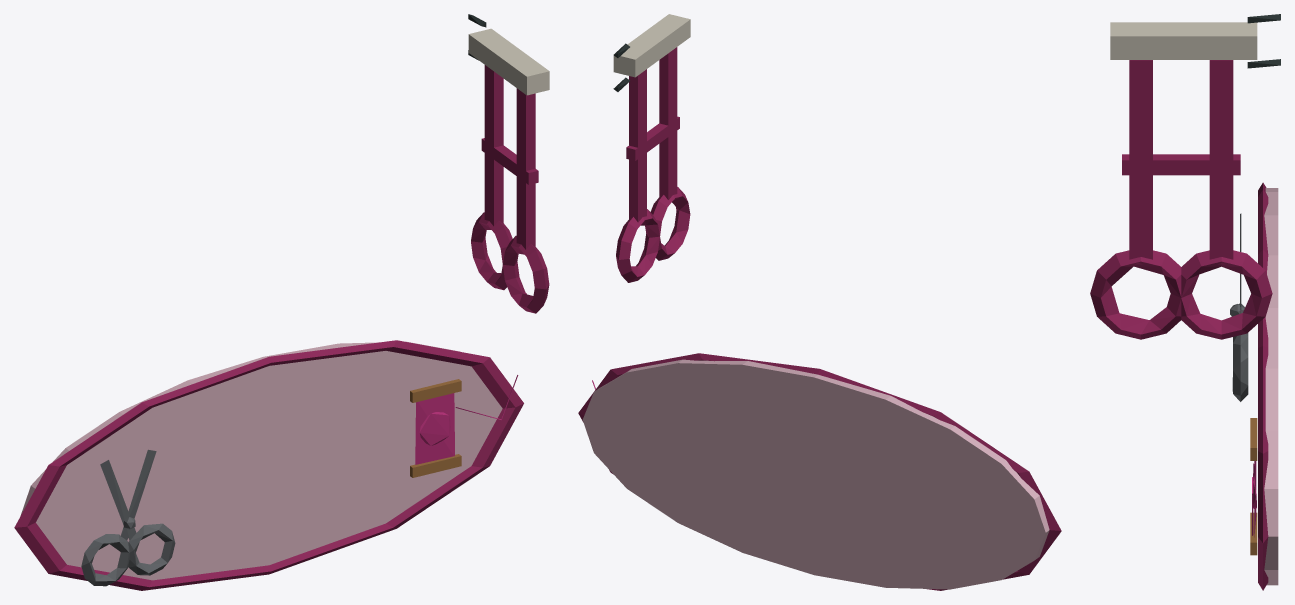
Rendered from bang_tiem_may_hong_nhung_32.glb.
3 renders of one model, left to right at view 1: azimuth 30°, elevation 25°; view 2: azimuth 150°, elevation 25°; view 3: azimuth 270°, elevation 25°, orthographic. The views are drawn at different scales.
Parts seen in each view (by area): view 1: bang_tiem_may_hong_nhung_32; view 2: bang_tiem_may_hong_nhung_32; view 3: bang_tiem_may_hong_nhung_32.
Boxes of the visible parts, x1=… form: bang_tiem_may_hong_nhung_32: x1=14, y1=14, x2=549, y2=590; bang_tiem_may_hong_nhung_32: x1=578, y1=14, x2=1061, y2=590; bang_tiem_may_hong_nhung_32: x1=1090, y1=14, x2=1280, y2=590.
Bounding box in the file's own units: 3.13 × 2.96 × 0.805.
